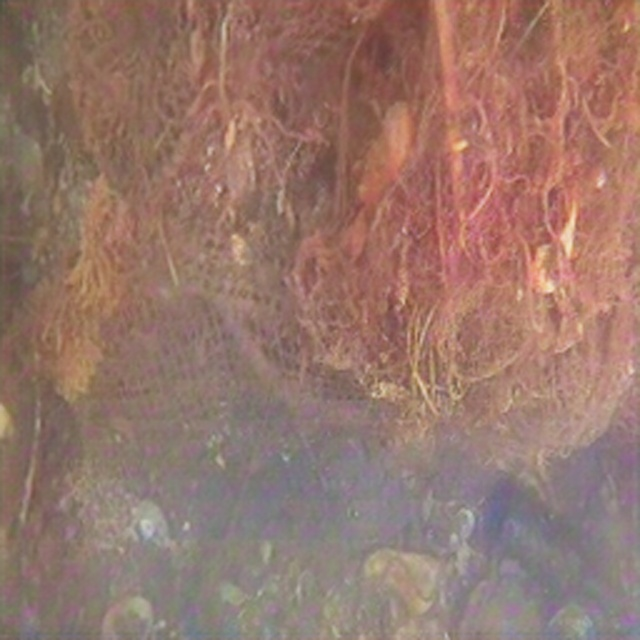mine: (106, 238, 370, 452), (74, 0, 356, 185)
